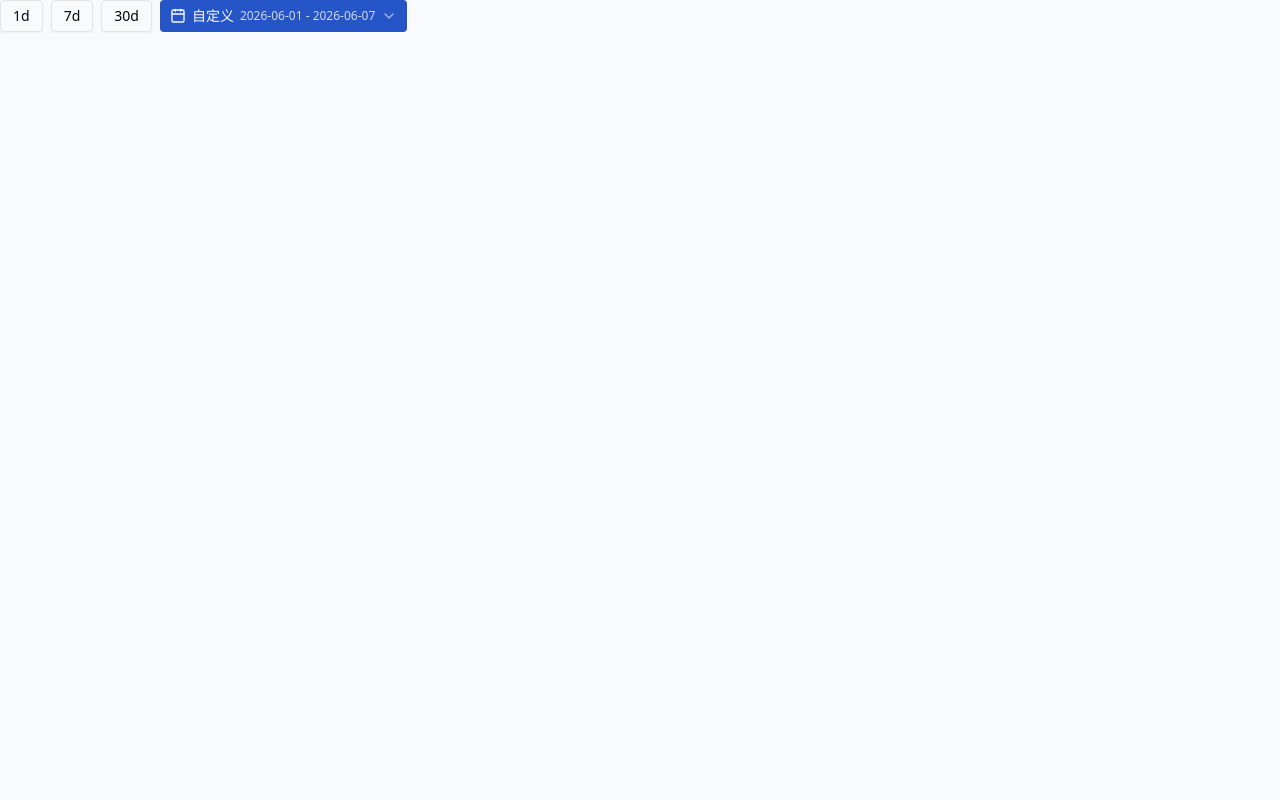
Test: OverviewTimeframeSelect › localizes custom-range controls in zh-CN
This screenshot has width=1280, height=800.
Step 1. Click the button with aria-label "自定义范围：2026-06-01 至 2026-06-07" → (284, 16), box 160,0 -> 407,32
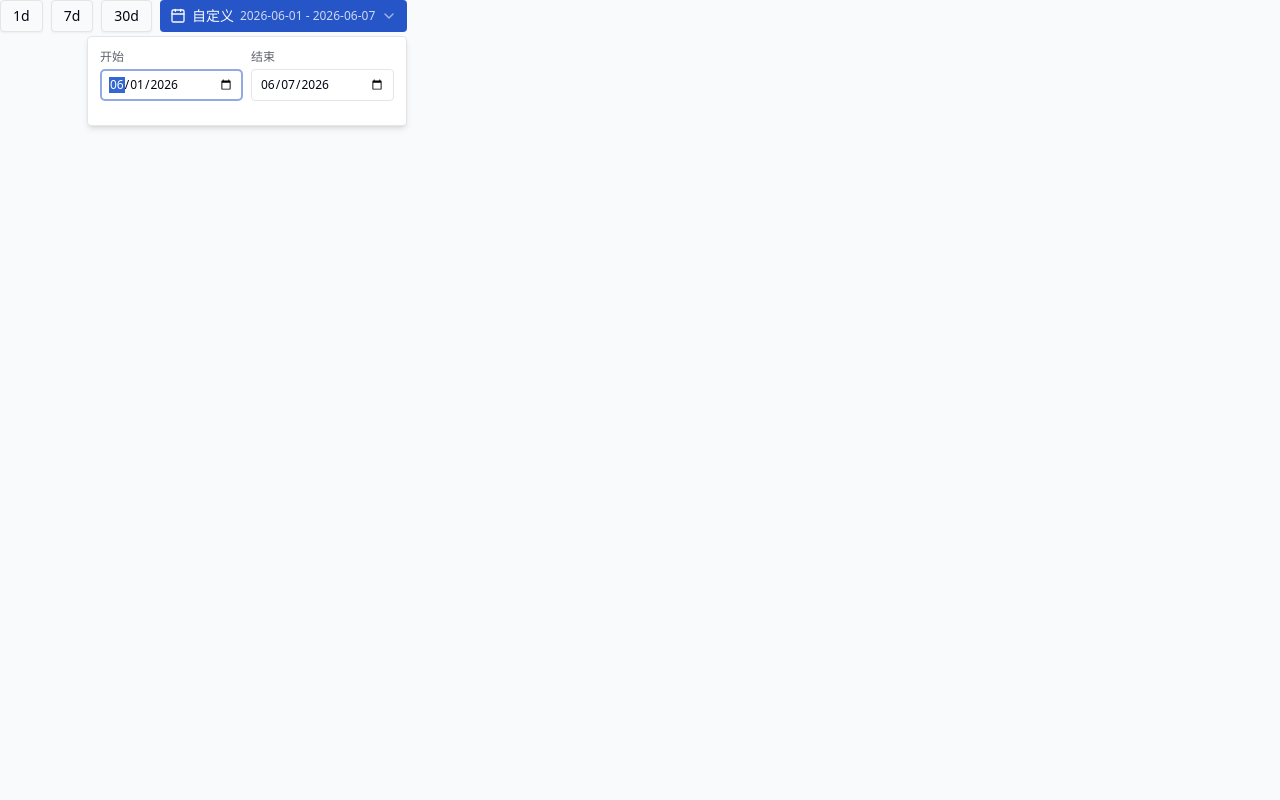
expect the date field named "仪表盘概览开始日期" is shown: met, box 100,69 -> 243,101
expect the date field named "仪表盘概览结束日期" is shown: met, box 251,69 -> 394,101
